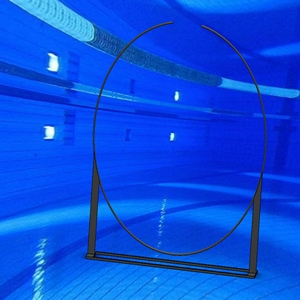circle: (85, 20, 269, 281)
